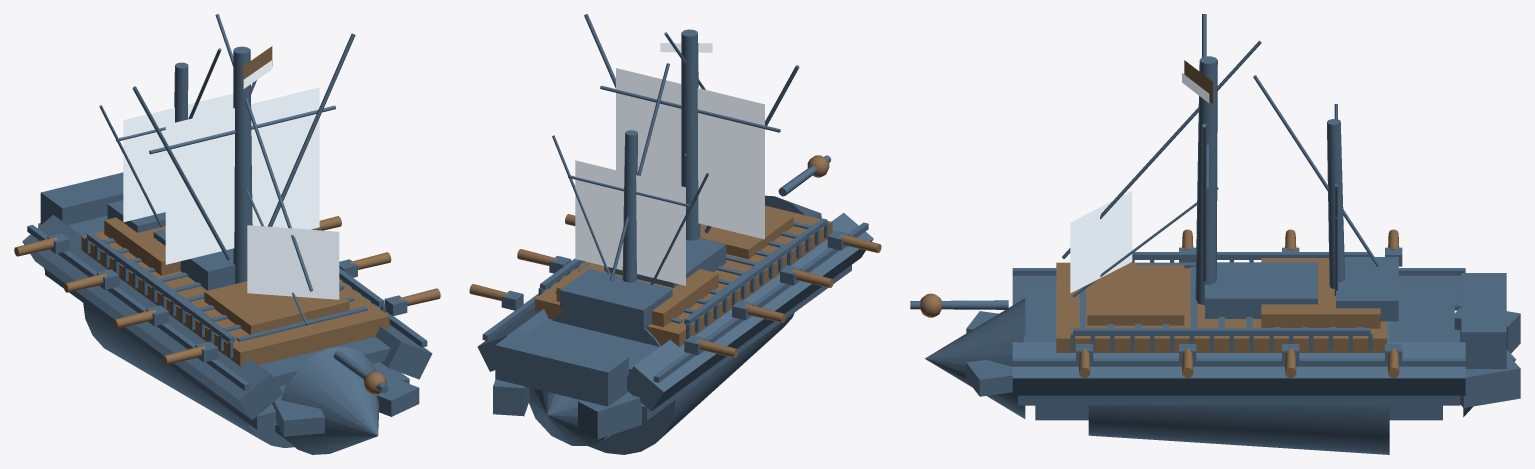
File: enemy_navy_v2.glb
3 views of the same model, side by side, from view 1: azimuth 30°, elevation 25°; view 2: azimuth 150°, elevation 25°; view 3: azimuth 270°, elevation 25° (orthographic). The views are drawn at different scales.
Parts seen in each view (by area): view 1: ship-sail-main, ship-hull-side-left, ship-deck, ship-bow, ship-sail-jib, ship-sail-fore, ship-forecastle, ship-hull, ship-mast, ship-stern-transom, ship-hull-upper, ship-hull-mid (+23 smaller); view 2: ship-sail-main, ship-sail-fore, ship-hull-side-left, ship-stern-transom, ship-hull, ship-stern-gallery, ship-deck, ship-mast, ship-stern, ship-hull-upper, ship-quarterdeck, ship-stern-quarter-left (+18 smaller); view 3: ship-hull-side-right, ship-hull, ship-deck, ship-forecastle, ship-cabin, ship-hull-upper, ship-hull-mid, ship-sail-jib, ship-stern-transom, ship-bow, ship-mast, ship-quarterdeck (+15 smaller).
Boxes of the visible parts, x1=… form: ship-sail-main: x1=165, y1=87, x2=319, y2=264; ship-hull-side-left: x1=22, y1=214, x2=283, y2=420; ship-deck: x1=81, y1=231, x2=389, y2=366; ship-bow: x1=281, y1=347, x2=378, y2=454; ship-sail-jib: x1=247, y1=225, x2=339, y2=299; ship-sail-fore: x1=123, y1=93, x2=233, y2=222; ship-forecastle: x1=204, y1=281, x2=349, y2=334; ship-hull: x1=83, y1=303, x2=294, y2=447; ship-mast: x1=233, y1=46, x2=252, y2=283; ship-stern-transom: x1=40, y1=172, x2=123, y2=224; ship-hull-upper: x1=68, y1=215, x2=390, y2=386; ship-hull-mid: x1=45, y1=269, x2=409, y2=429; ship-sail-main: x1=616, y1=68, x2=764, y2=239; ship-sail-fore: x1=575, y1=160, x2=685, y2=285; ship-hull-side-left: x1=627, y1=212, x2=873, y2=411; ship-stern-transom: x1=495, y1=329, x2=628, y2=406; ship-hull: x1=552, y1=310, x2=794, y2=454; ship-stern-gallery: x1=560, y1=269, x2=672, y2=328; ship-deck: x1=535, y1=205, x2=832, y2=347; ship-mast: x1=681, y1=29, x2=700, y2=240; ship-stern: x1=529, y1=387, x2=607, y2=445; ship-hull-upper: x1=530, y1=319, x2=660, y2=372; ship-quarterdeck: x1=556, y1=263, x2=718, y2=327; ship-stern-quarter-left: x1=578, y1=392, x2=641, y2=439; ship-hull-side-right: x1=1012, y1=342, x2=1465, y2=395; ship-hull: x1=1088, y1=321, x2=1389, y2=454; ship-deck: x1=1056, y1=262, x2=1386, y2=352; ship-forecastle: x1=1087, y1=265, x2=1184, y2=325; ship-cabin: x1=1205, y1=262, x2=1317, y2=318; ship-hull-upper: x1=1023, y1=287, x2=1454, y2=342; ship-hull-mid: x1=1018, y1=329, x2=1460, y2=405; ship-sail-jib: x1=1070, y1=191, x2=1132, y2=293; ship-stern-transom: x1=1461, y1=273, x2=1506, y2=368; ship-bow: x1=925, y1=298, x2=1025, y2=418; ship-mast: x1=1195, y1=56, x2=1217, y2=304; ship-quarterdeck: x1=1261, y1=258, x2=1380, y2=328.
Size of the model in its own units: 4.53 by 6.18 by 8.41.
